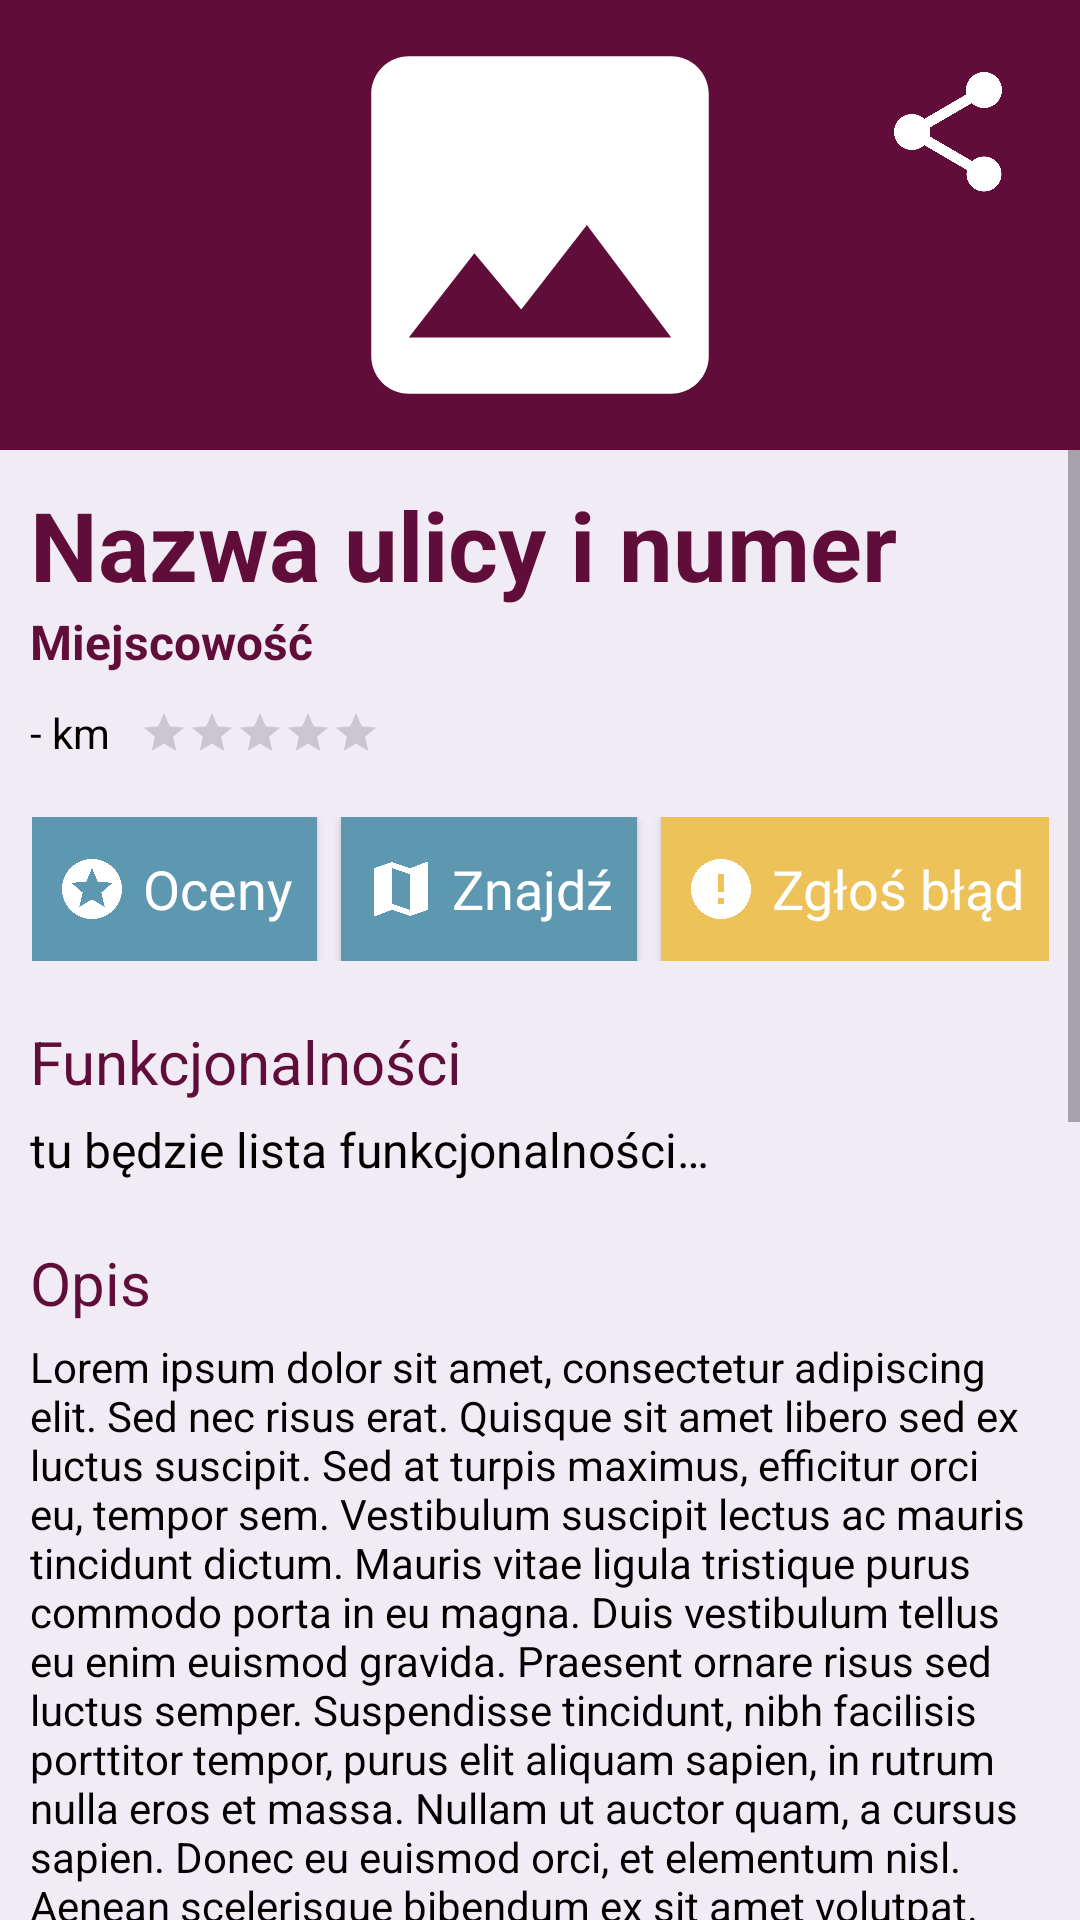

Screen size 1080×1920. Icon name, then its box in pixels as (x1, y1, x2, y2):
photo: (371, 56, 709, 394)
share: (894, 72, 1002, 192)
